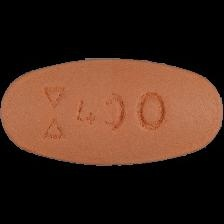55289-505: (0, 0, 224, 224)
